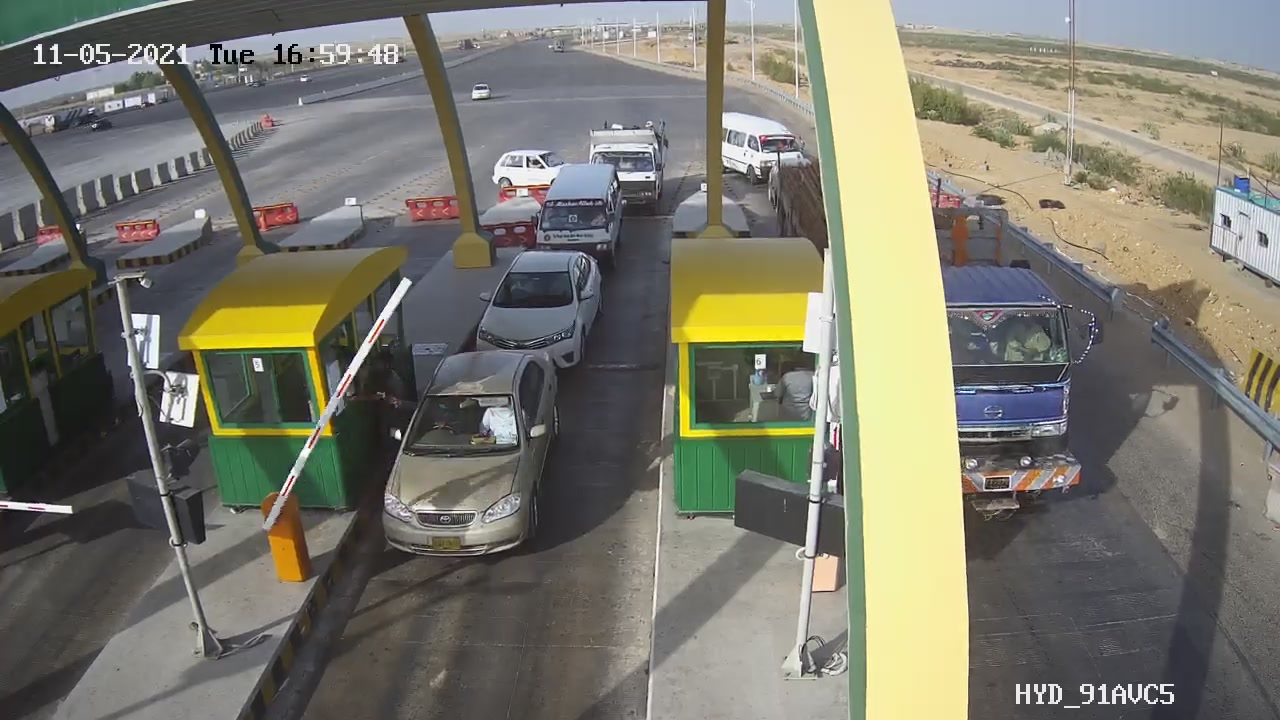F1: (366, 340, 579, 580), (466, 237, 618, 386)
